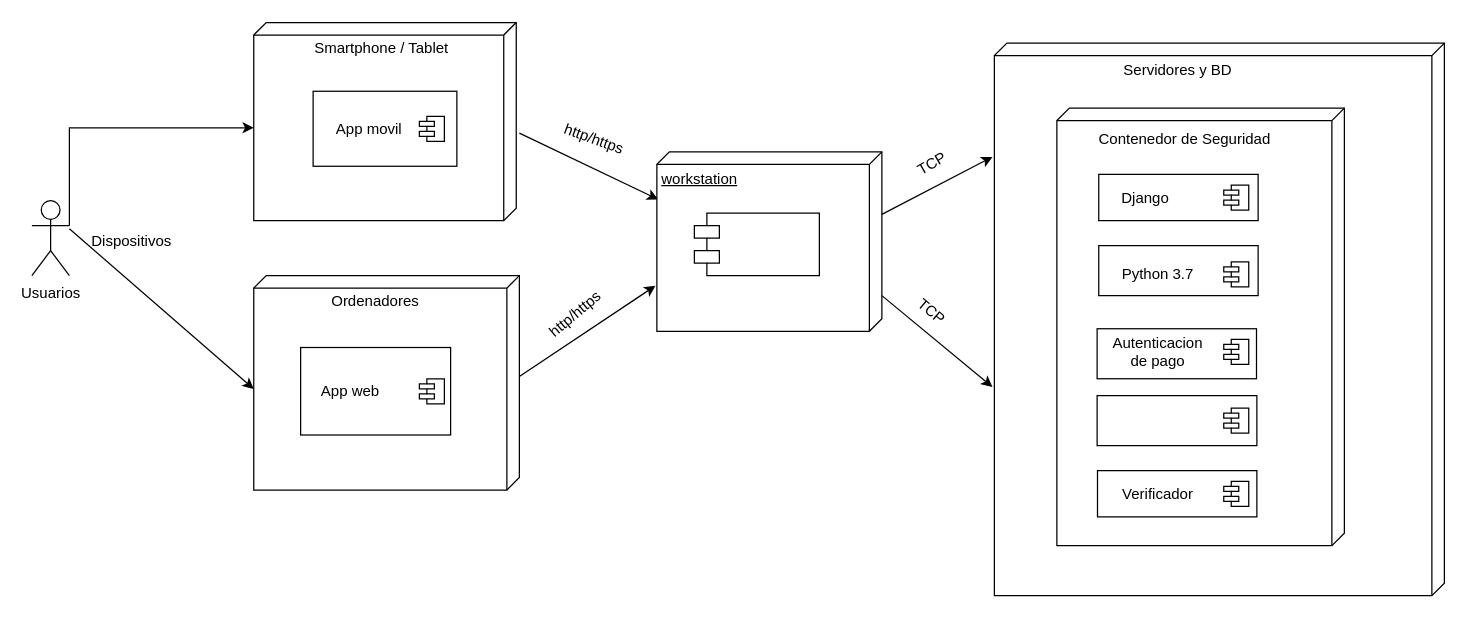
This 1466x618 diagram has some shape labels left out. The shapes that lost their labels are listed below. From the top down, each one's box as (x1, y1, x2, y2) in pixels, then its label:
(693, 212, 819, 276): web browser
(1096, 394, 1257, 446): MySQL
